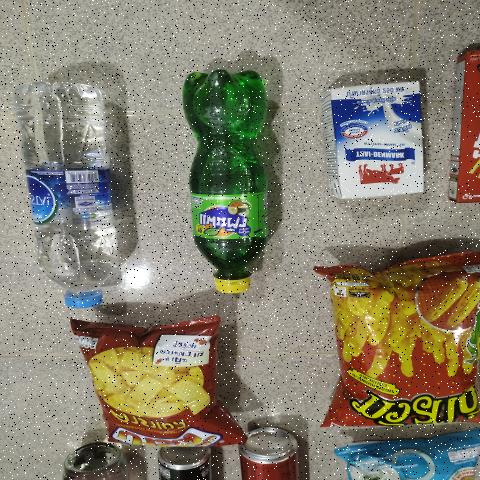crystal: (27, 81, 119, 312)
fanta_green: (184, 60, 283, 301)
party_red: (91, 322, 210, 452)
thai_denmark: (328, 76, 427, 200)
twisco: (327, 274, 480, 434)
